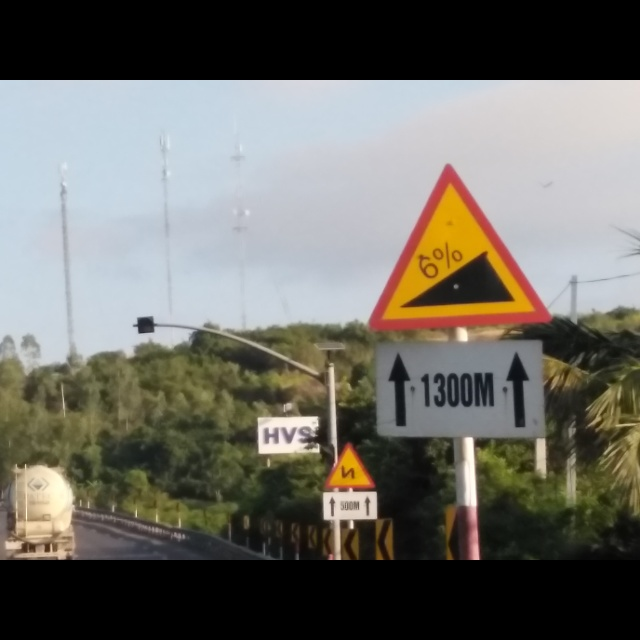Dốc lên nguy hiểm: (367, 161, 553, 333)
Ngoặt nguy hiểm liên tiếp bên phải: (323, 443, 376, 491)
